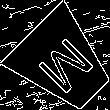M_SE: (29, 29, 98, 98)
